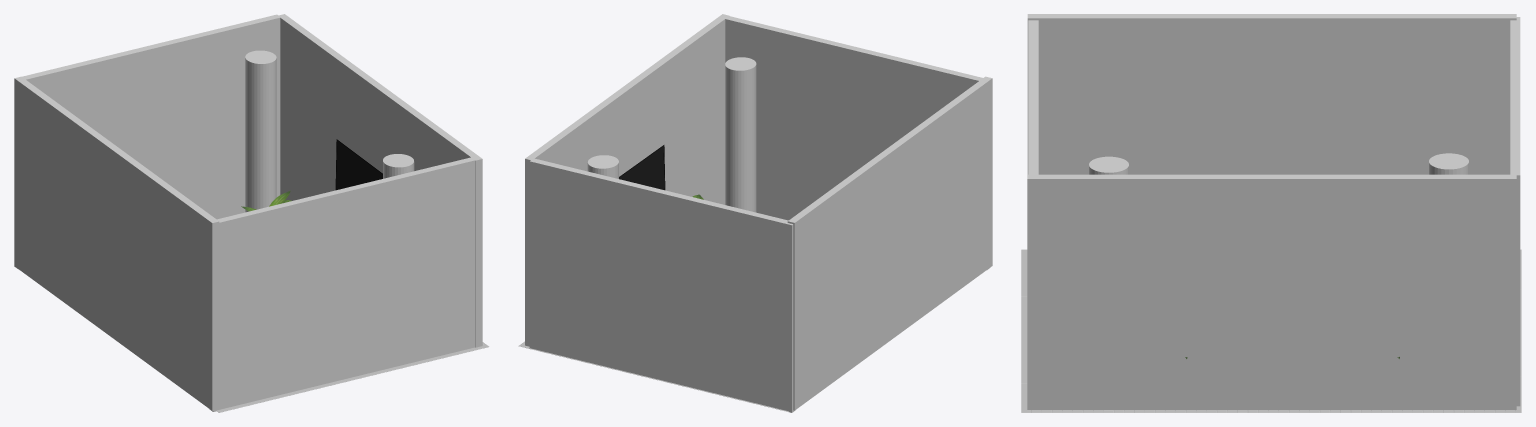
File: lobby.fbx
3 renders of one model, left to right at view 1: azimuth 30°, elevation 25°; view 2: azimuth 150°, elevation 25°; view 3: azimuth 270°, elevation 25°, orthographic. The views are drawn at different scales.
Visible parts, largest first — view 1: Cube.002, Cube.003, Cube, Cube.004, Cylinder, Box002, Plane001, Cylinder.001; view 2: Cube, Cube.003, Cube.002, Cube.004, Cylinder.001, Box002, Cylinder; view 3: Cube.004, Cube.003, Plane001, Cube, Cube.002, Cylinder, Cylinder.001.
Part boxes in pixels (x1,y1,x2,y2): Cube.002: [209, 157, 475, 411]; Cube.003: [14, 76, 219, 410]; Cube: [14, 14, 280, 268]; Cube.004: [279, 14, 482, 347]; Cylinder: [245, 50, 276, 212]; Box002: [335, 139, 382, 190]; Plane001: [216, 342, 489, 412]; Cylinder.001: [383, 154, 414, 178]; Cube: [529, 158, 795, 412]; Cube.003: [787, 76, 992, 410]; Cube.002: [724, 16, 990, 269]; Cube.004: [525, 14, 729, 346]; Cylinder.001: [725, 57, 756, 212]; Box002: [619, 145, 665, 190]; Cylinder: [587, 155, 618, 178]; Cube.004: [1027, 174, 1516, 410]; Cube.003: [1027, 14, 1516, 174]; Plane001: [1021, 249, 1521, 412]; Cube: [1510, 17, 1520, 406]; Cube.002: [1028, 20, 1038, 175]; Cylinder: [1429, 153, 1468, 174]; Cylinder.001: [1089, 156, 1128, 174].
Size of what is drawn, in the model's own units: 1845 by 1326 by 2356.
